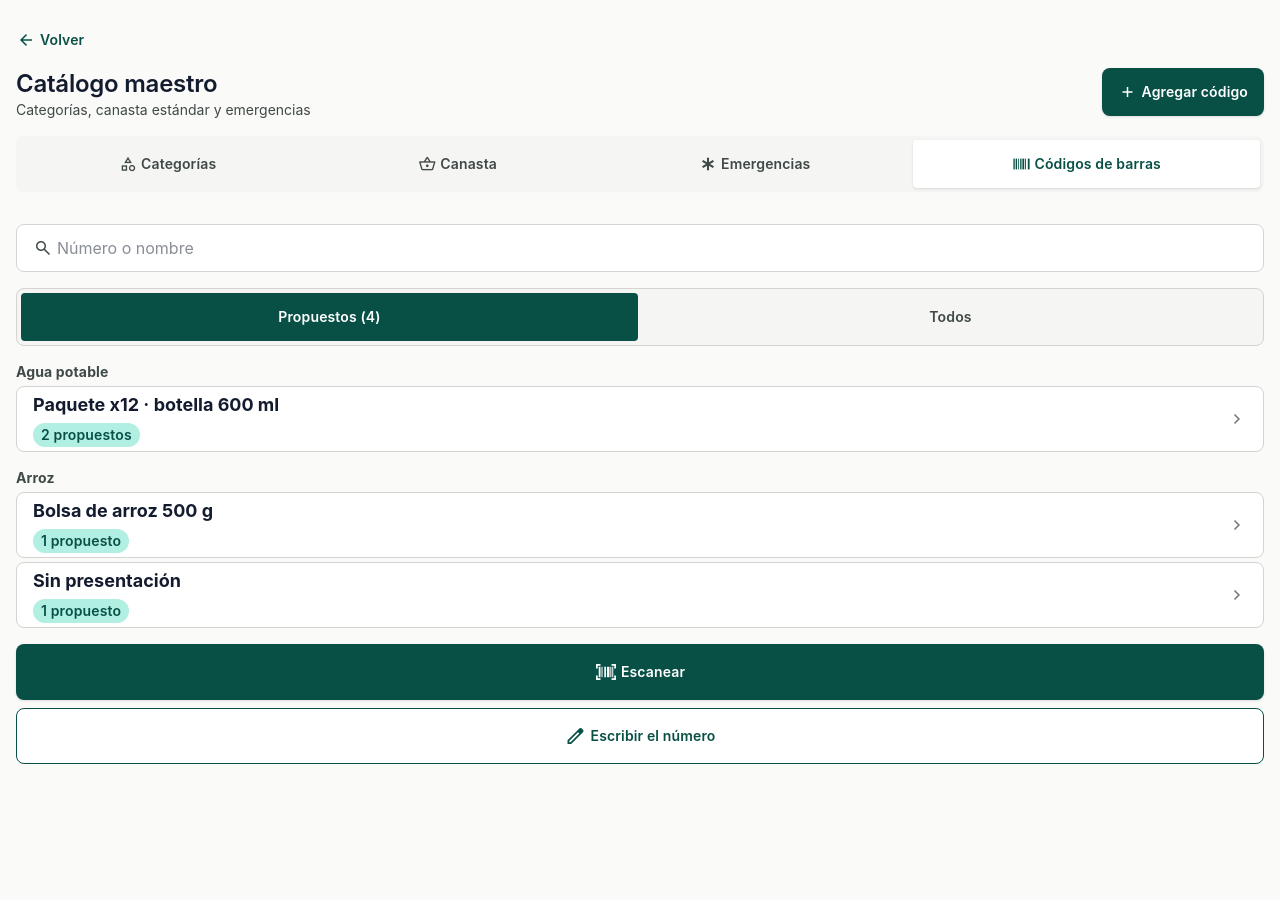
Scenario: C18 Códigos › agrupa por categoría y presentación con su número de códigos, y deja sin presentación aparte
Click the radio button labelled "Todos": (950, 316) [929,308,972,325]
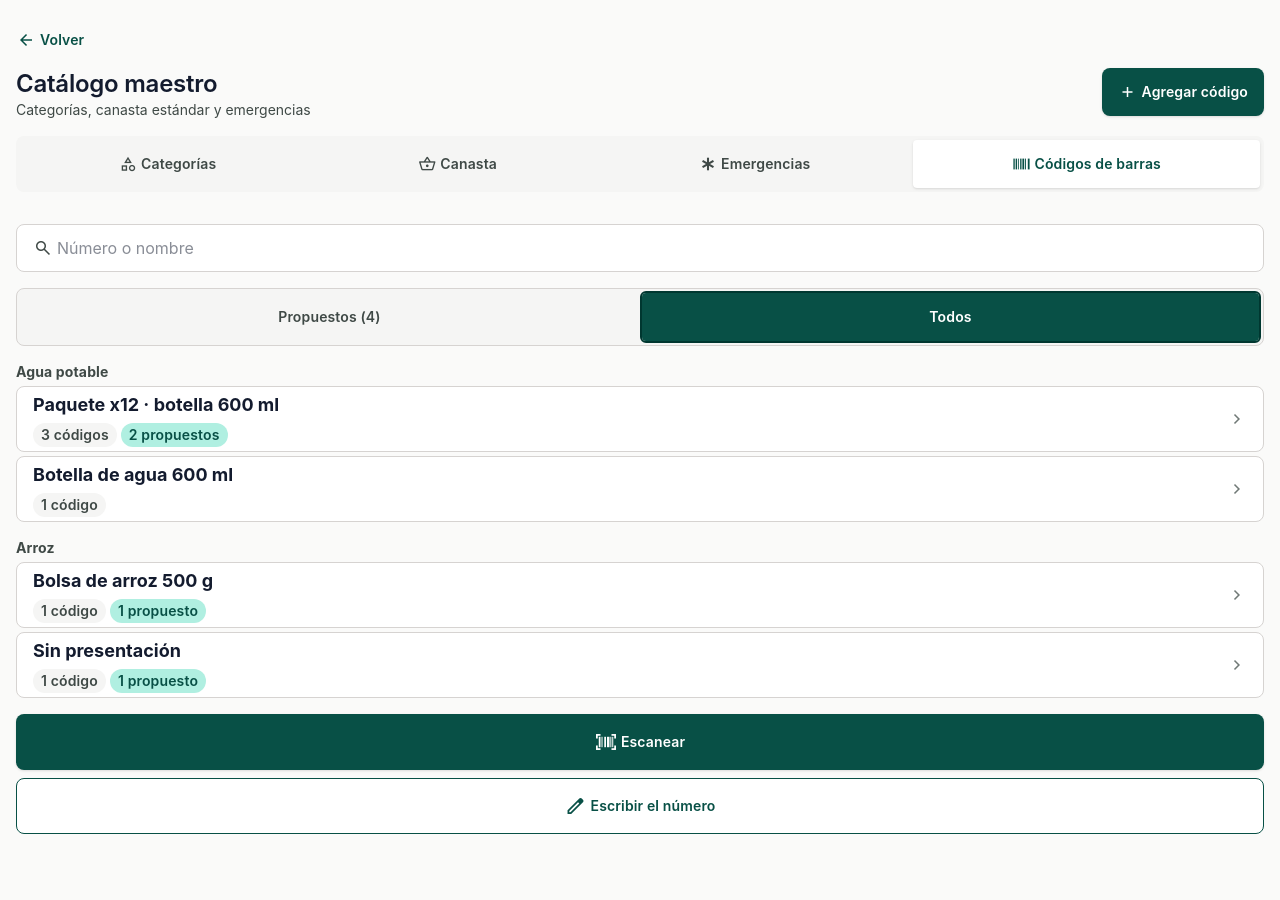
Result: the button "Botella de agua 600 ml 1 código" is shown at [16,456,1264,522]
Result: the button "Paquete x12 · botella 600 ml 3 códigos 2 propuestos" is shown at [16,386,1264,452]
Result: the button "Bolsa de arroz 500 g 1 código 1 propuesto" is shown at [16,562,1264,628]
